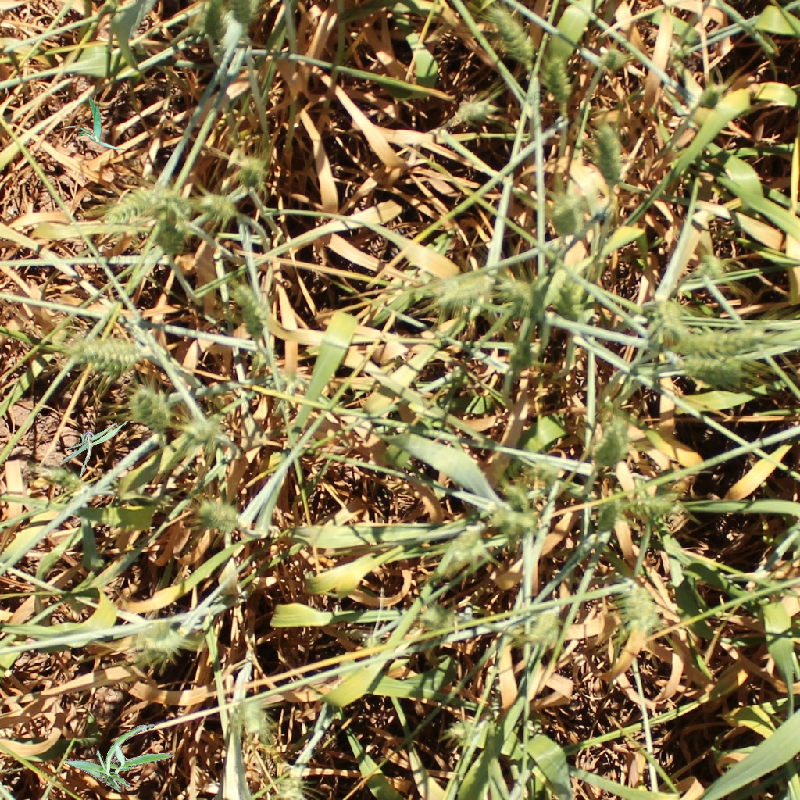spikelet: (68, 332, 149, 372), (486, 2, 537, 63), (102, 183, 171, 228), (676, 321, 766, 355), (432, 268, 495, 310), (129, 616, 185, 661), (675, 349, 746, 384), (230, 281, 273, 337), (617, 579, 661, 633), (590, 122, 628, 184), (591, 414, 634, 468), (128, 383, 174, 433), (442, 520, 488, 565), (195, 494, 244, 535), (486, 500, 537, 538), (629, 488, 681, 525), (182, 411, 230, 451), (547, 191, 588, 236), (496, 273, 537, 316), (233, 697, 273, 741), (539, 53, 574, 101), (552, 273, 588, 319), (648, 295, 688, 336), (271, 759, 309, 800), (449, 96, 496, 127), (591, 493, 624, 535), (234, 152, 271, 189), (198, 189, 238, 223), (446, 716, 489, 747), (696, 252, 729, 283), (225, 1, 264, 25)
weed: (63, 726, 178, 800), (52, 410, 128, 479), (61, 96, 125, 150)
